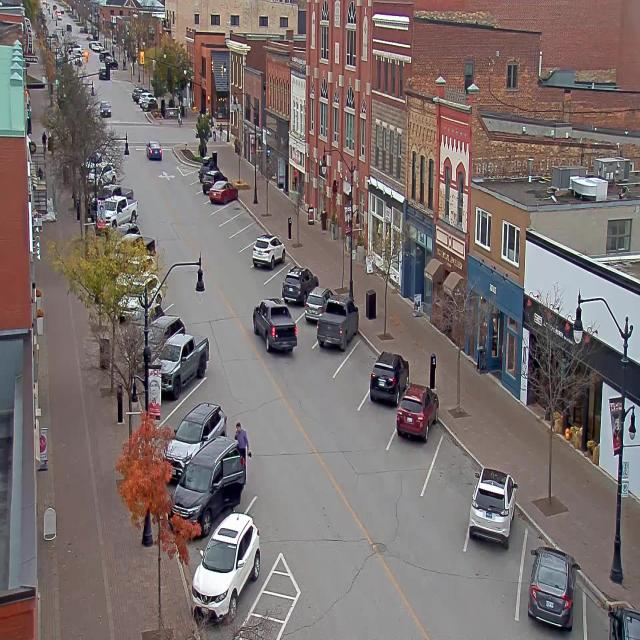available: (429, 430, 482, 515), (340, 332, 378, 392), (172, 368, 226, 409), (263, 260, 291, 298), (228, 224, 260, 247), (221, 210, 251, 231), (236, 240, 256, 268), (213, 201, 243, 219), (182, 169, 199, 184)
occupied: (192, 510, 261, 624), (176, 422, 255, 512), (164, 402, 228, 482), (527, 544, 579, 631), (468, 466, 517, 547), (152, 331, 209, 398), (398, 378, 438, 445), (587, 589, 639, 639), (316, 296, 358, 352), (368, 350, 409, 406), (282, 265, 318, 304), (301, 281, 330, 326), (252, 232, 285, 269), (209, 179, 237, 204), (198, 156, 216, 182), (200, 172, 220, 189)
